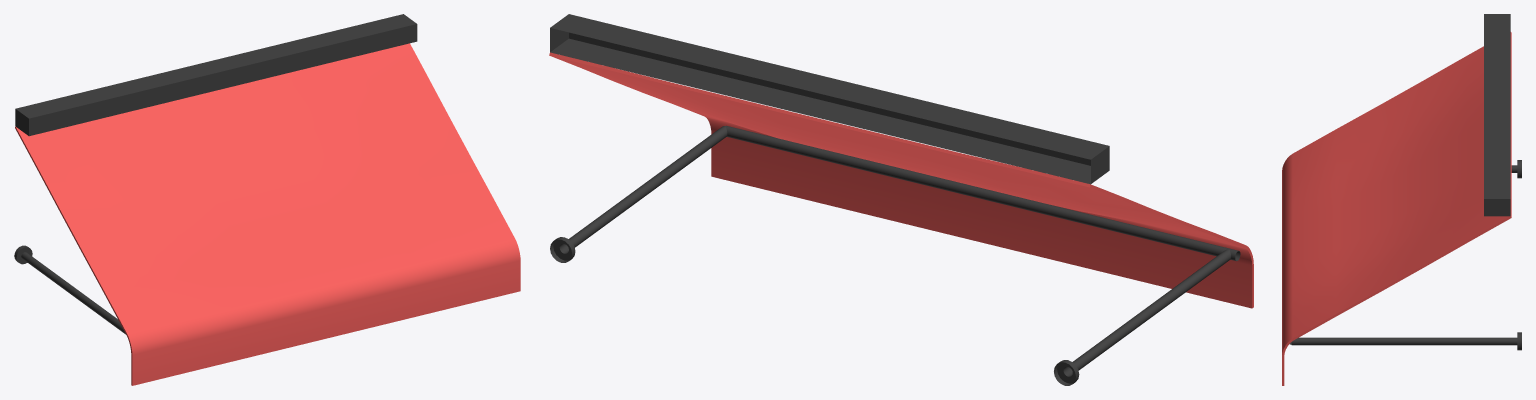
The model's file is object_B2_GF_awning.glb.
3 views of the same model, side by side, from view 1: azimuth 30°, elevation 25°; view 2: azimuth 150°, elevation 25°; view 3: azimuth 270°, elevation 25° (orthographic). The views are drawn at different scales.
Parts seen in each view (by area): view 1: B2 GF awning; view 2: B2 GF awning; view 3: B2 GF awning.
Part boxes in pixels (x1,y1,x2,y2): B2 GF awning: [14, 14, 520, 385]; B2 GF awning: [549, 14, 1253, 385]; B2 GF awning: [1282, 14, 1521, 385].
Bounding box in the file's own units: 1.92 × 0.9033 × 1.05.
